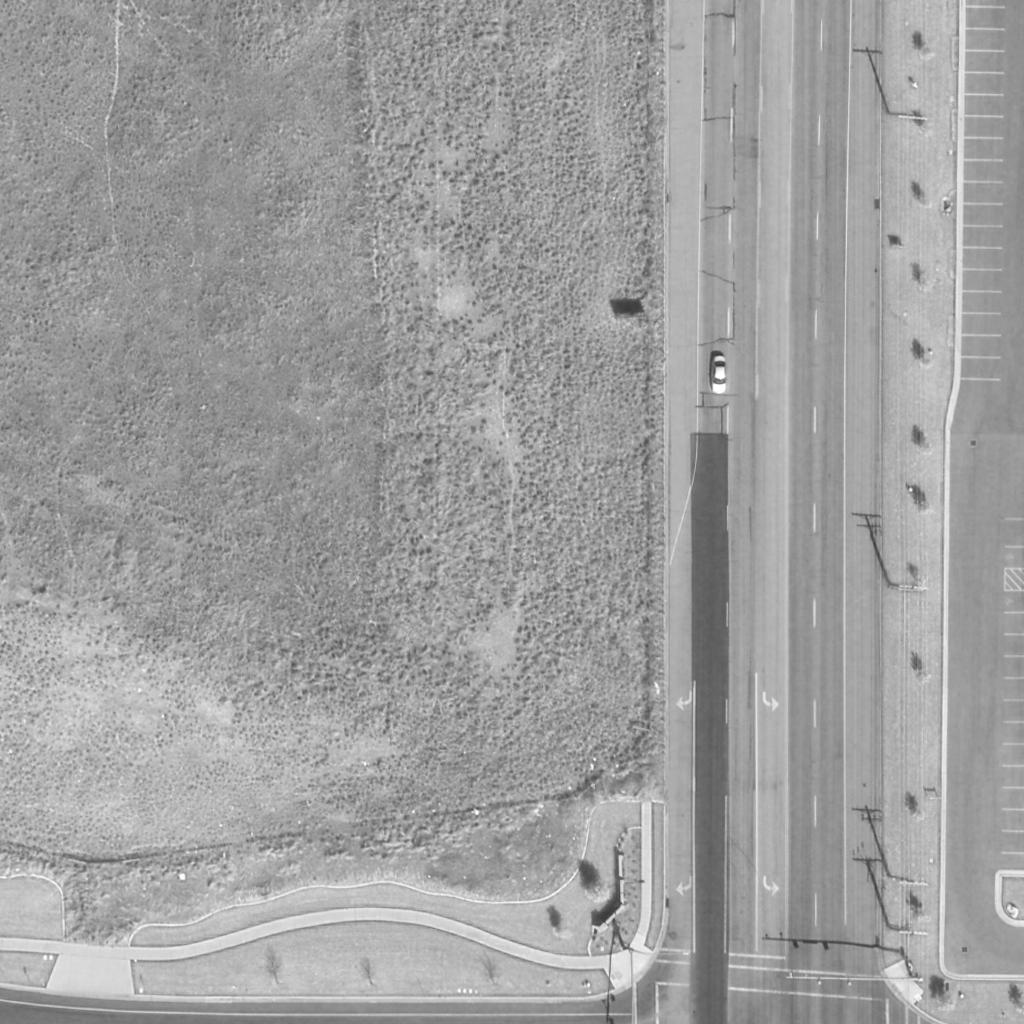vehicle: (711, 355, 727, 395)
